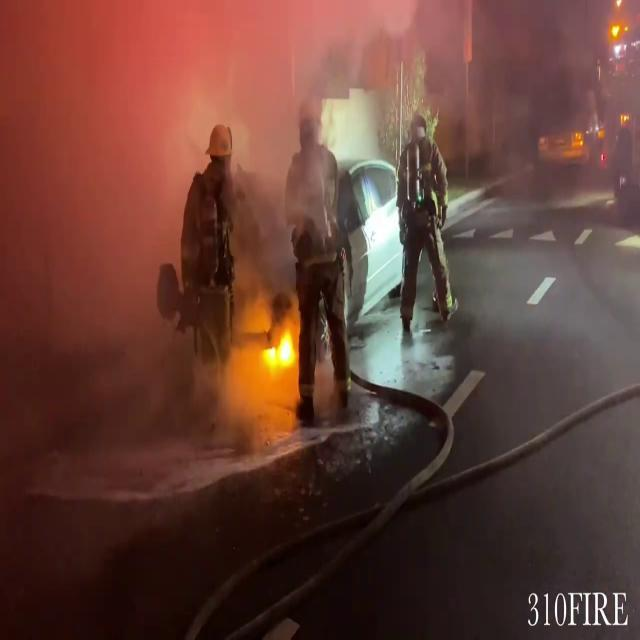Fire: (262, 319, 298, 382)
Smoke: (8, 0, 350, 394)
